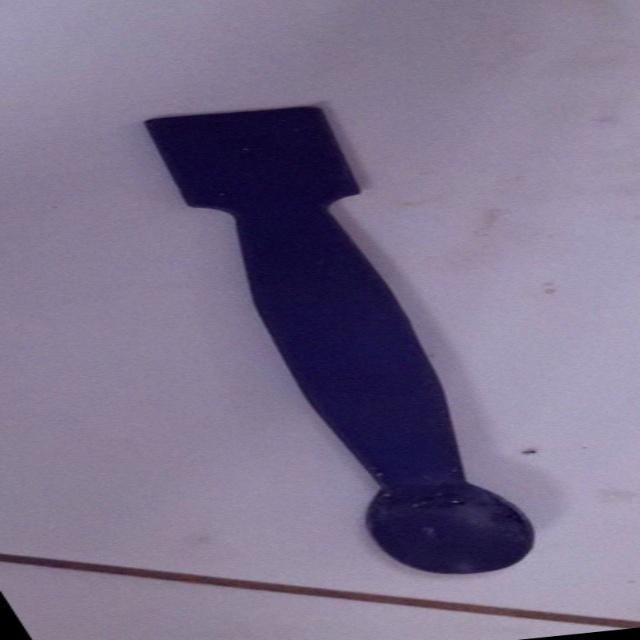Spatula: (90, 93, 632, 586)
